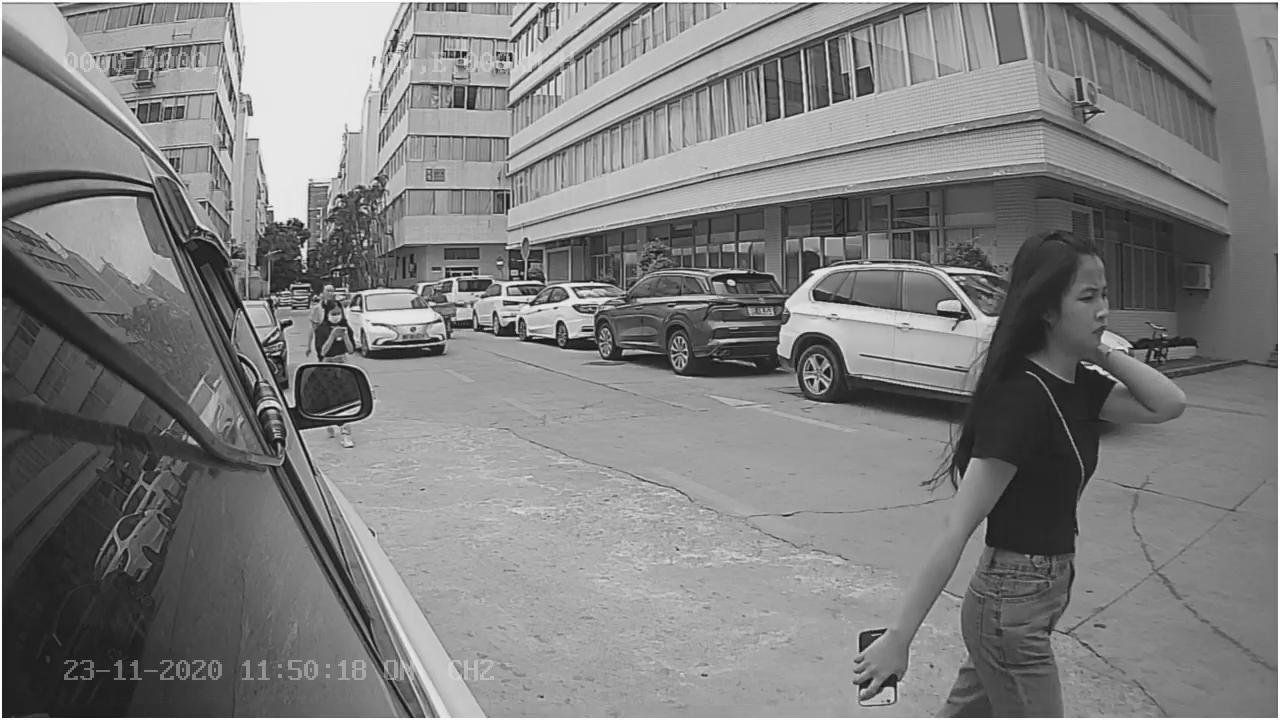person: (938, 237, 1189, 520)
